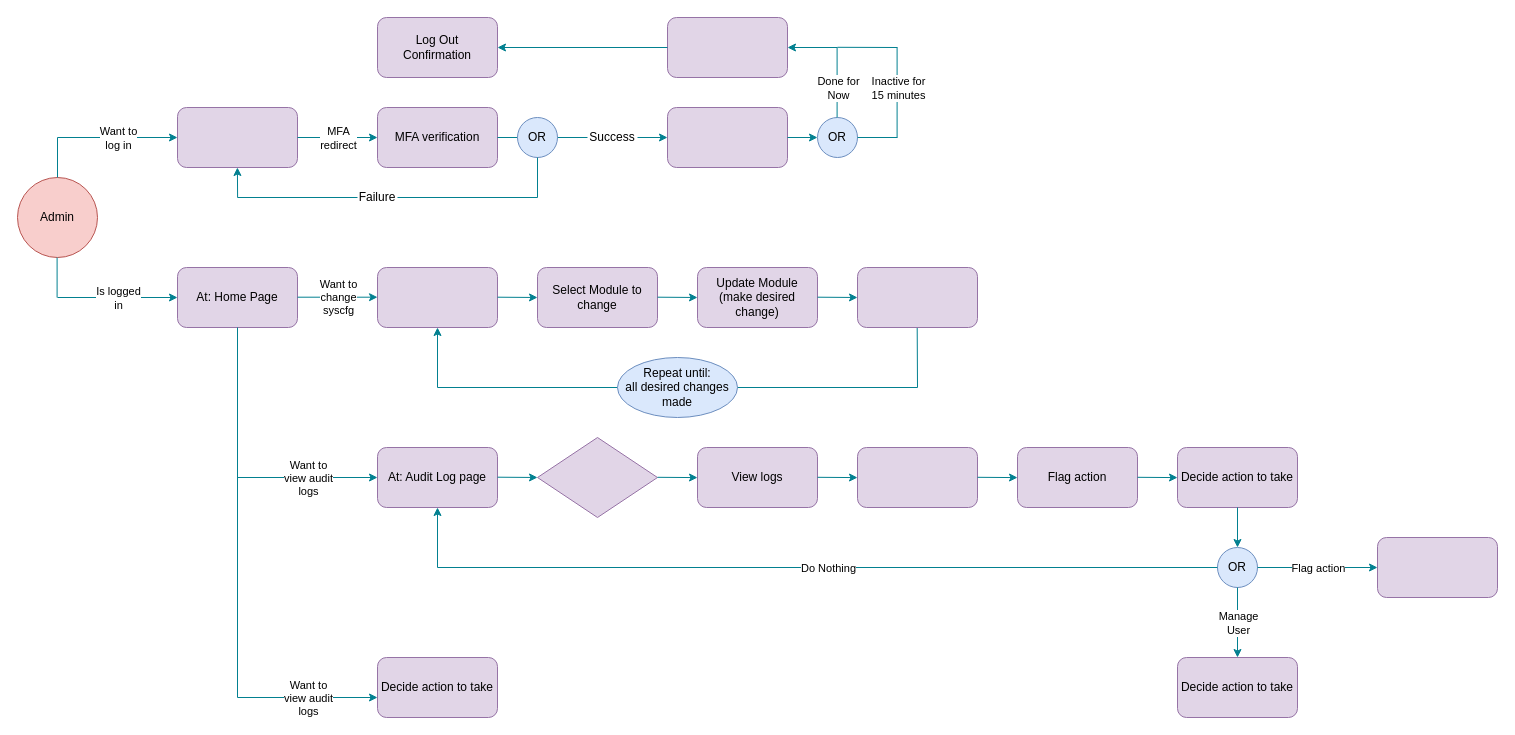
The diagram is 1515 pixels wide and 735 high, and some of its shapes have lost their labels. Each missing label, with the centre of its shape:
At: System Configuration page: [437,297]
Attempt Log In: [237,137]
Audit Log created of system change: [917,297]
Find out of place/suspicious log: [917,477]
Log In: [727,137]
Log Out: [727,47]
Mark in audit logs: [1437,567]
OPTIONAL: select filters: [597,477]
